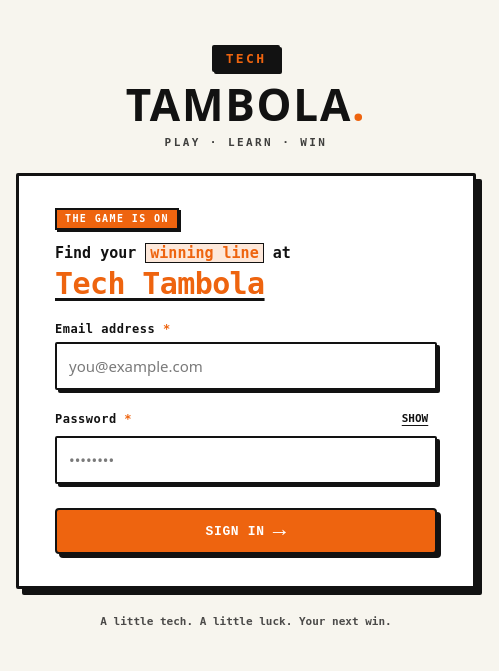
Test: LoginPage › shows a generic invalid-credentials message for a 401 response
Type "attendee@example.test" into the field labelled "Email address *".
click(246, 366); type("attendee@example.test")  # box [55,342,437,390]
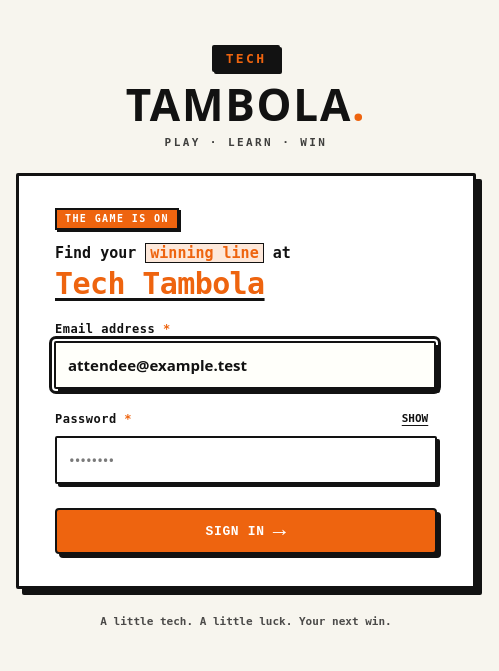
Type "wrong-password" into the password field labelled "Password *".
click(246, 460); type("wrong-password")  # box [55,436,437,484]
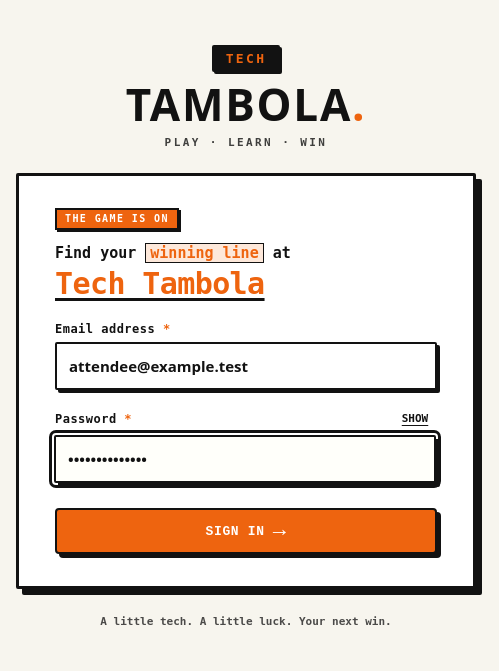
Click the button "Sign in →".
click(246, 531)  # box [55,508,437,554]
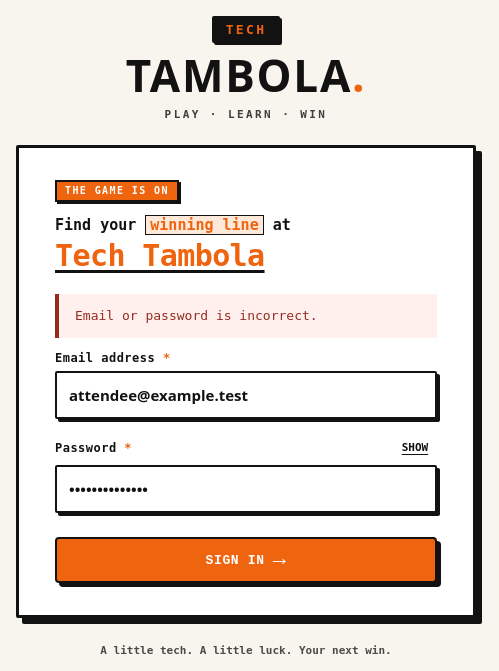
Now the message shows "Email or password is incorrect", box [75,308,318,322]
